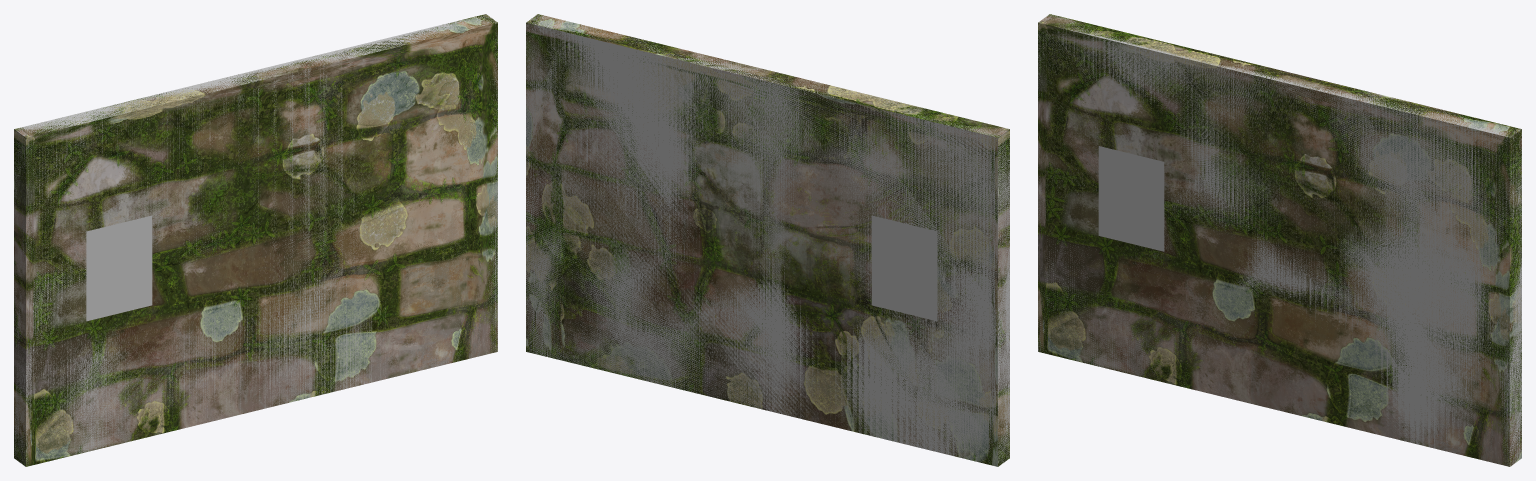
The model's file is SM_WallSideWindow.fbx.
3 views of the same model, side by side, from view 1: azimuth 30°, elevation 25°; view 2: azimuth 150°, elevation 25°; view 3: azimuth 330°, elevation 25° (orthographic).
Visible parts, largest first — view 1: SM_WallSideWindow, SM_WallSideWindow_ConvexHulls; view 2: SM_WallSideWindow, SM_WallSideWindow_ConvexHulls; view 3: SM_WallSideWindow, SM_WallSideWindow_ConvexHulls.
Part boxes in pixels (left/top/right/bottom): SM_WallSideWindow: left=14, top=14, right=497, bottom=466; SM_WallSideWindow_ConvexHulls: left=14, top=14, right=497, bottom=465; SM_WallSideWindow: left=526, top=14, right=1009, bottom=466; SM_WallSideWindow_ConvexHulls: left=526, top=14, right=1009, bottom=466; SM_WallSideWindow: left=1038, top=14, right=1521, bottom=466; SM_WallSideWindow_ConvexHulls: left=1038, top=14, right=1521, bottom=466.
Bounding box in the file's own units: 600 × 26 × 400.
Materials: 2 (1 with a texture image).
